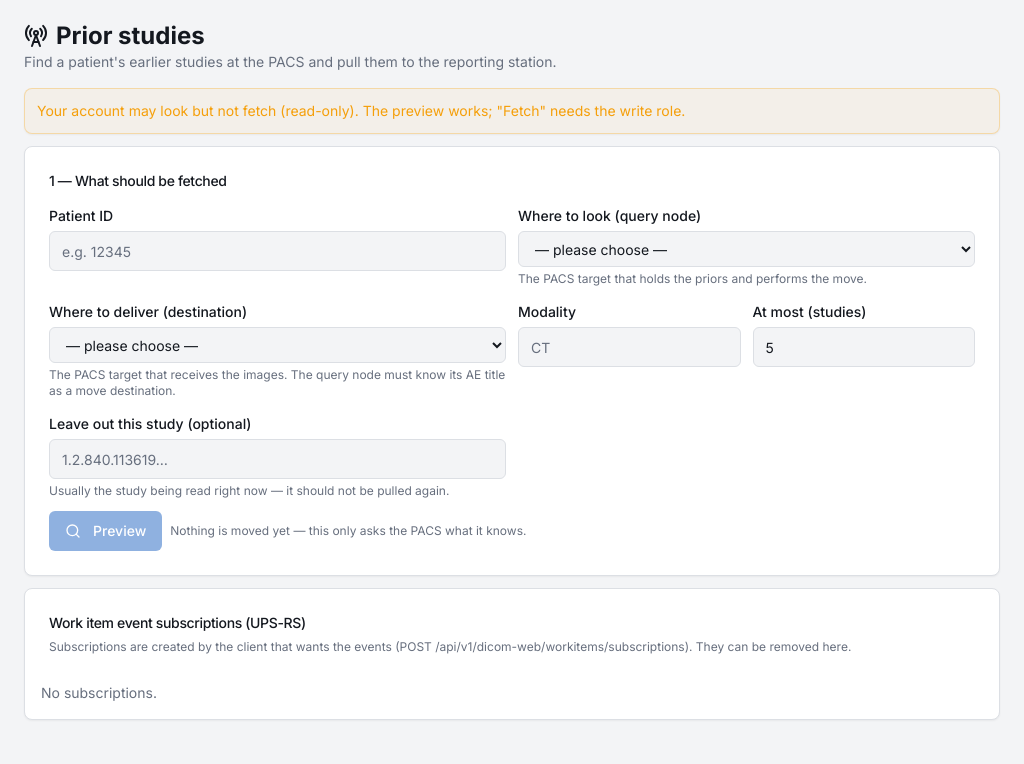
it: PrefetchPage › explains a read-only account instead of failing with a 403
Type "P-100" into the field labelled "Patient ID". click: (278, 251)
box: [49,231,506,271]
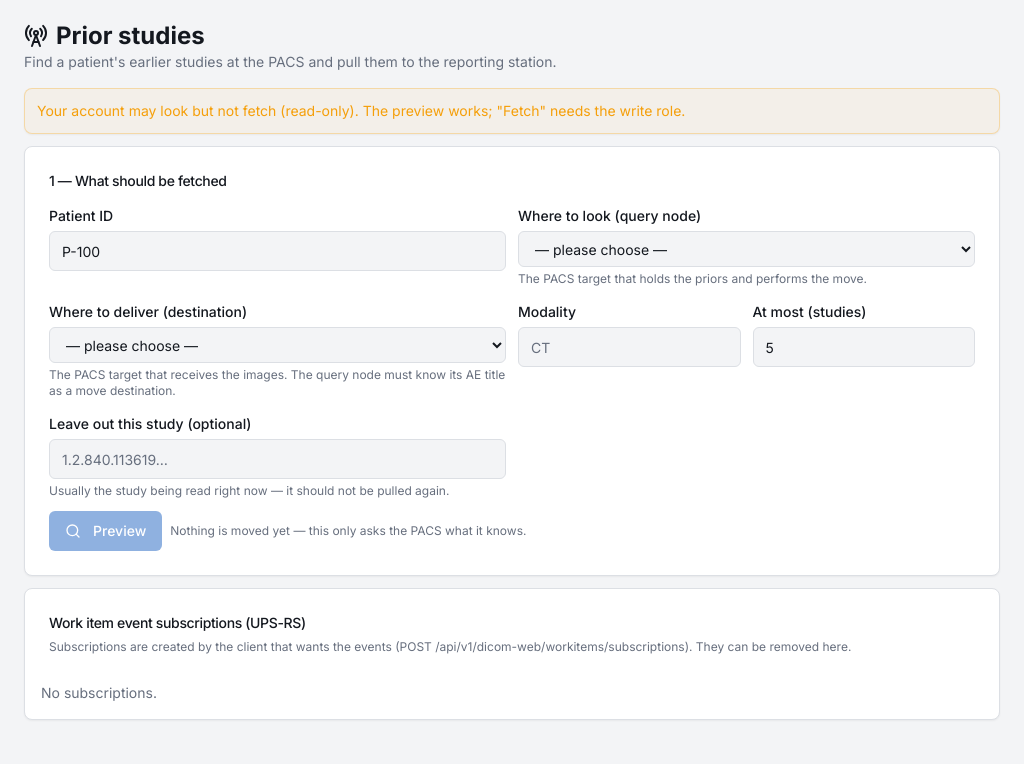
Select "pacs-main" in the dropdown labelled "Where to look (query node)". click: (746, 249)
box: [518,231,975,267]
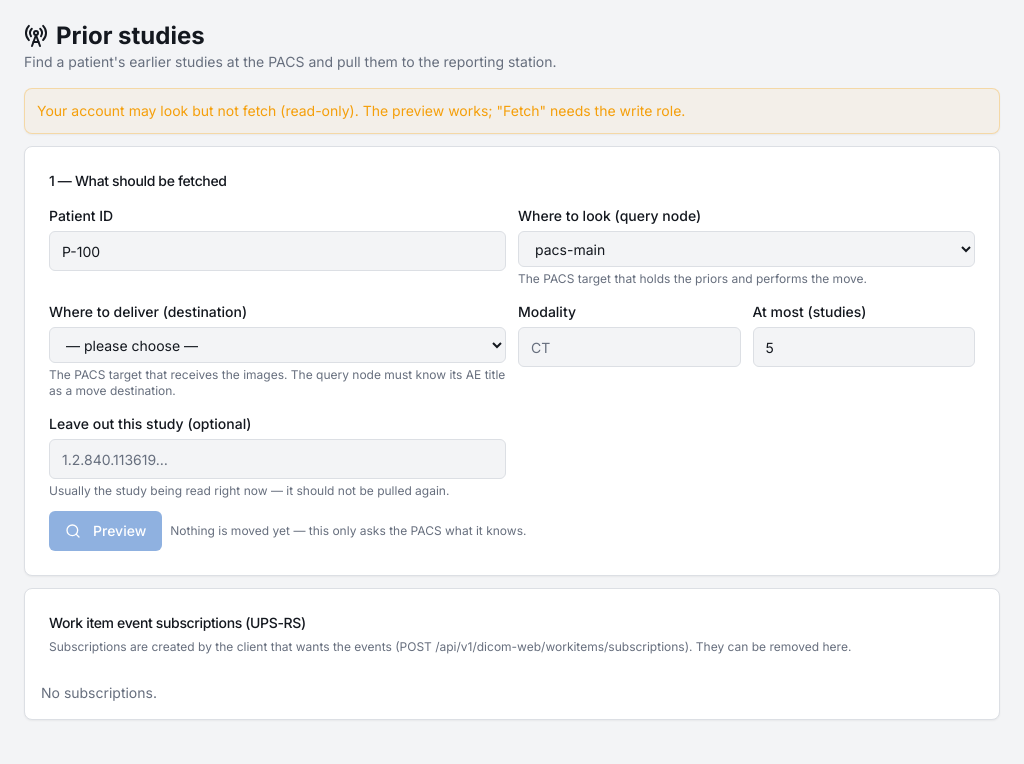
Select "dest" in the dropdown labelled "Where to deliver (destination)". click: (278, 345)
box: [49,327,506,363]
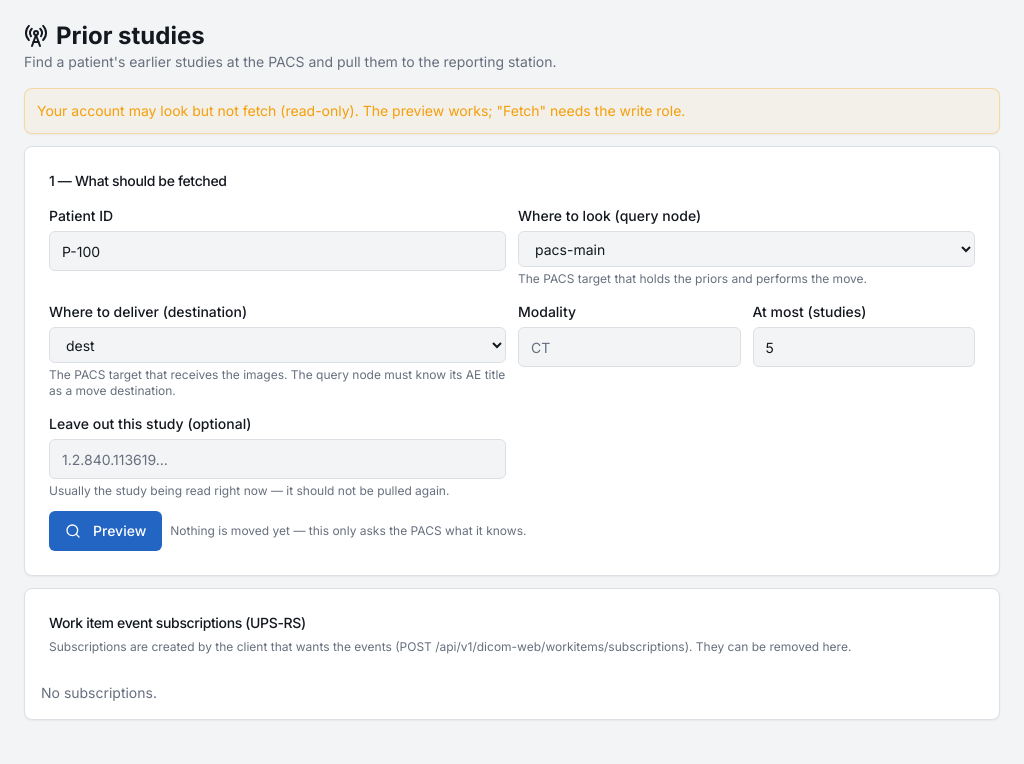
Click the button "Preview". click: click(106, 531)
box: [49,511,162,551]
(page scrolled)
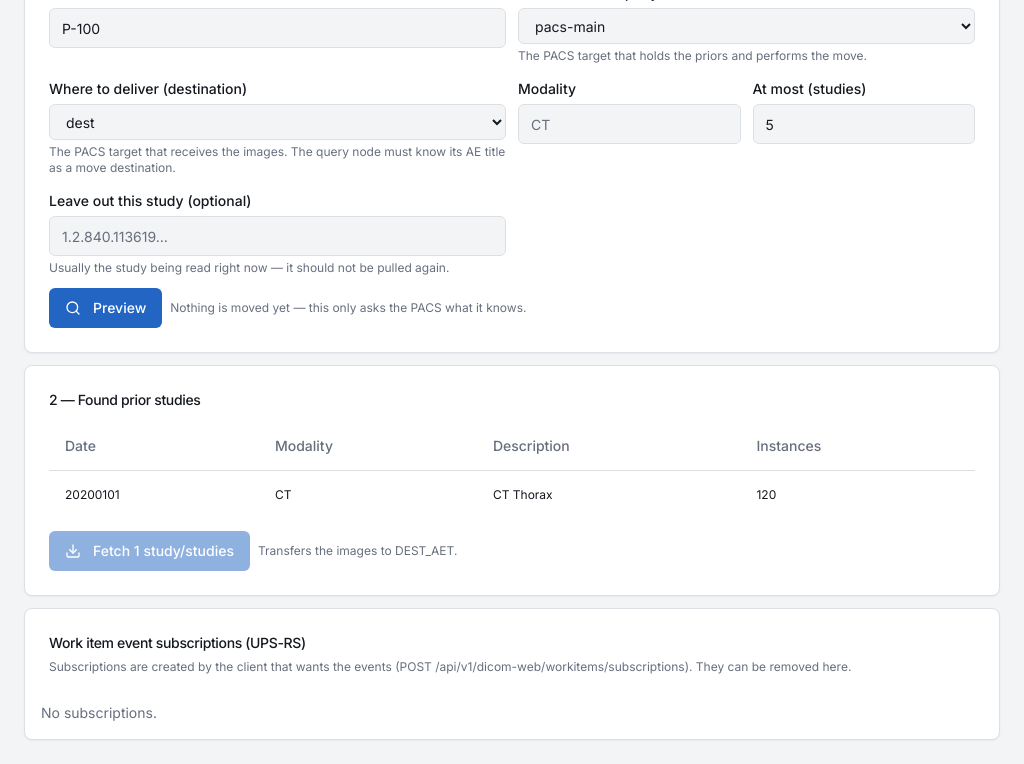
Result: the text "CT Thorax" is shown at [477,470,740,518]
Result: the button "Fetch 1 study/studies" is disabled at [49,530,250,570]
